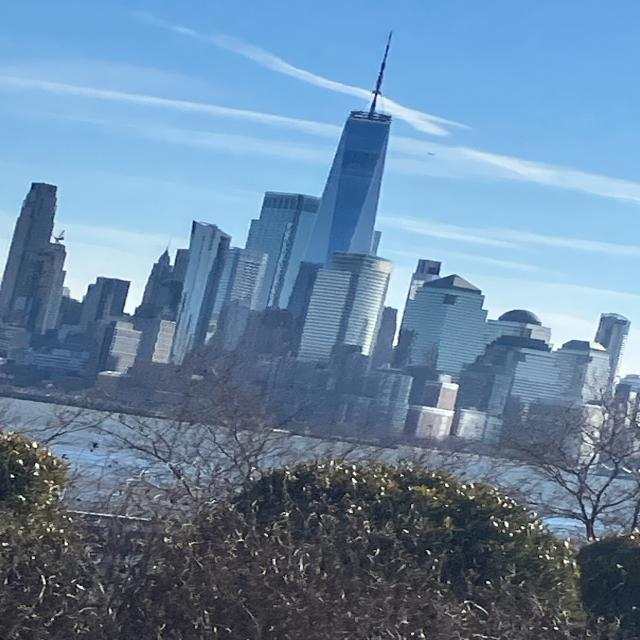WTC: (305, 27, 409, 257)
